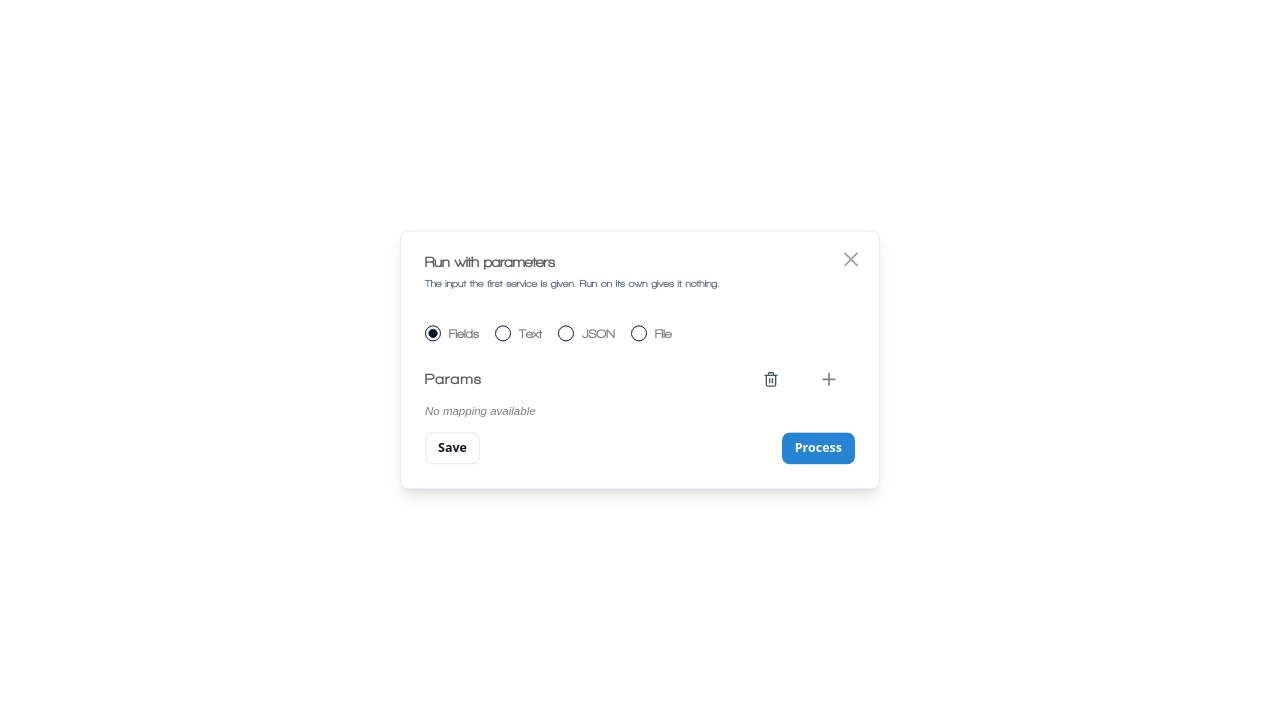
Test: RunParamsDialog › files › does not offer to run the file mode before a file is chosen
What coordinates should you click on to do the following:
click the radio button named "File" next to "File"
I would click on:
 (639, 334)
Its box is [631,326,647,342].
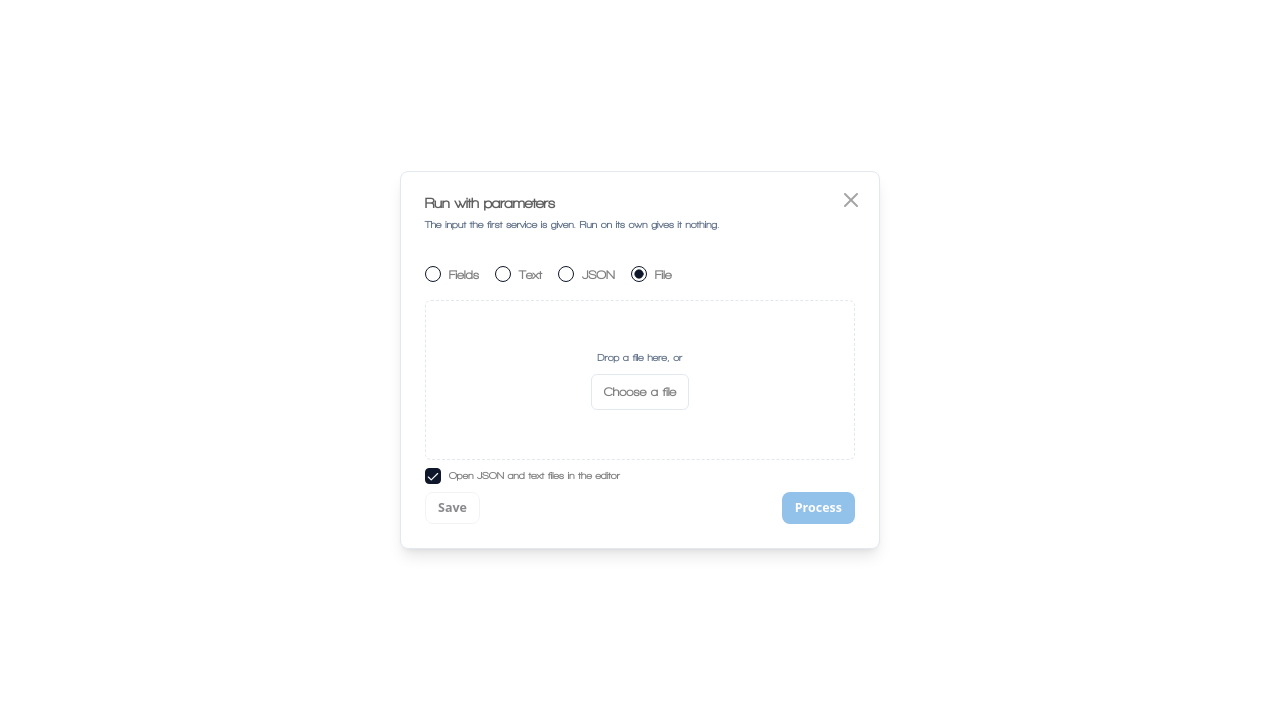
Expected: the button "Process" is disabled, [782,492,855,524]
